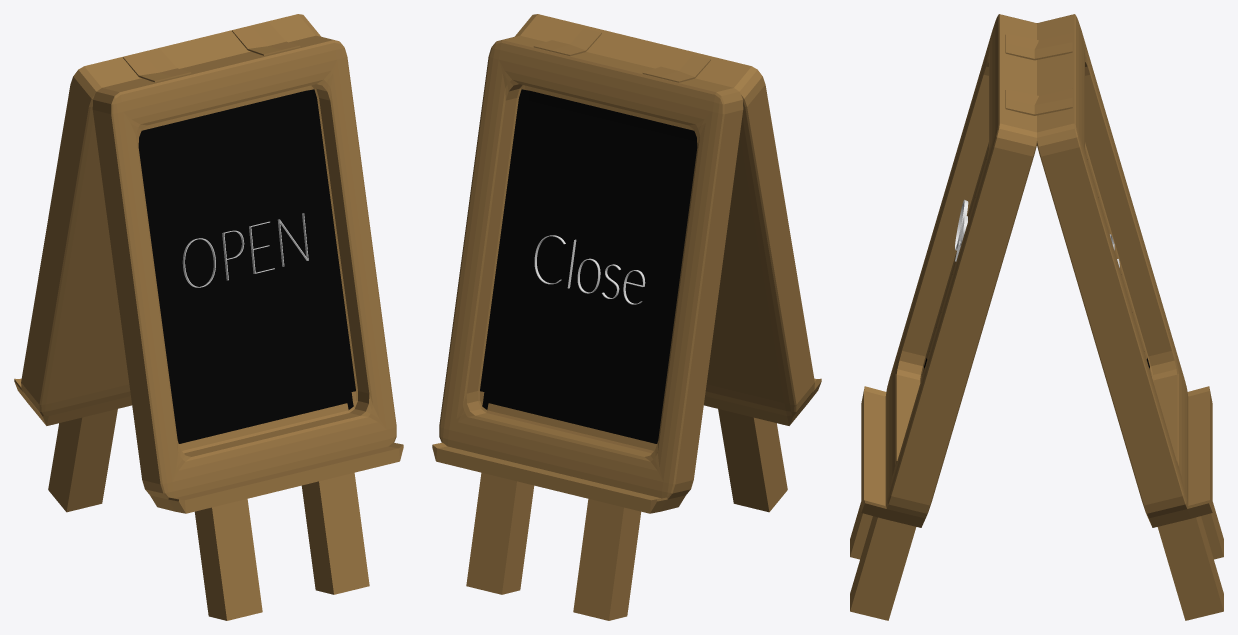
The model's file is Closing sign.fbx.
The picture shows the model from 3 angles, left to right: view 1: azimuth 30°, elevation 25°; view 2: azimuth 150°, elevation 25°; view 3: azimuth 270°, elevation 25°; orthographic projection. The views are drawn at different scales.
Parts seen in each view (by area): view 1: Close/Open, Plane, Open; view 2: Close/Open, Plane, Open.001; view 3: Close/Open, Plane.
Part boxes in pixels (x1,y1,x2,y2): Close/Open: (14,14,403,620); Plane: (123,21,300,82); Open: (182,213,308,287); Close/Open: (432,14,821,620); Plane: (533,24,710,82); Open.001: (534,235,645,304); Close/Open: (850,14,1223,620); Plane: (1005,33,1072,115).
Size of what is drawn, in the model's own units: 34.58 by 69.18 by 45.37.
